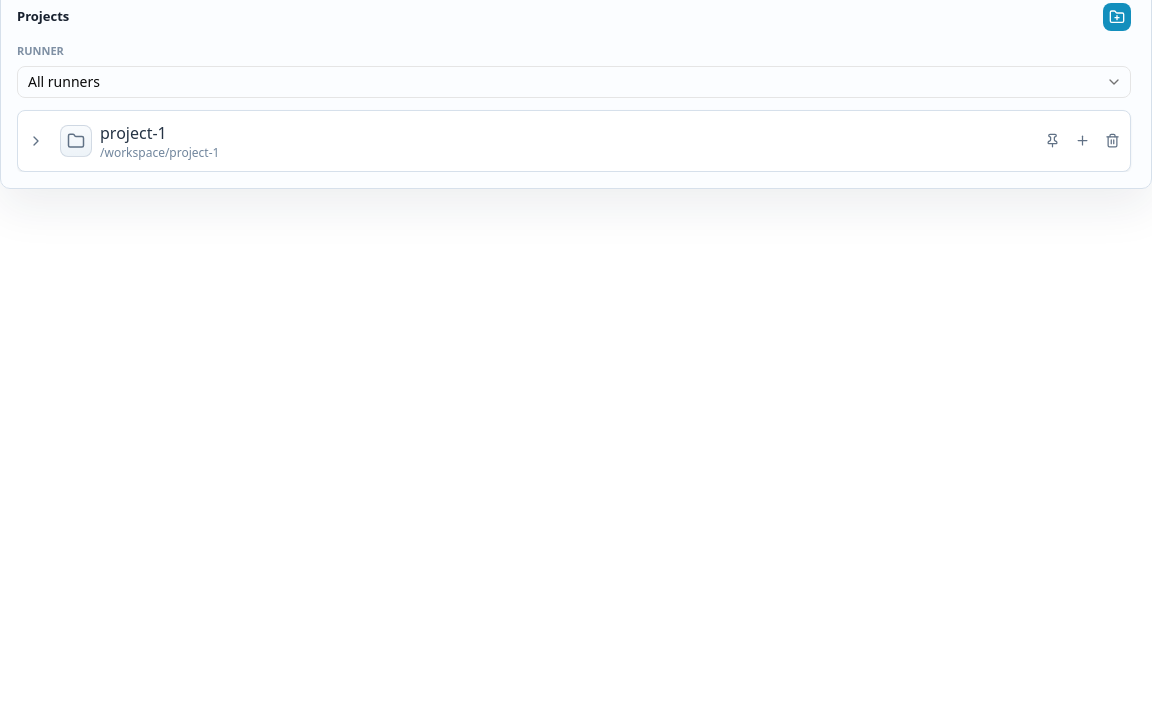
Test: RunnerSidebar › limits project session lists to five until the user expands them
The image size is (1152, 706).
Click the button named "Expand project project-1".
click(36, 140)  # box 22,126 -> 50,154
(page scrolled)
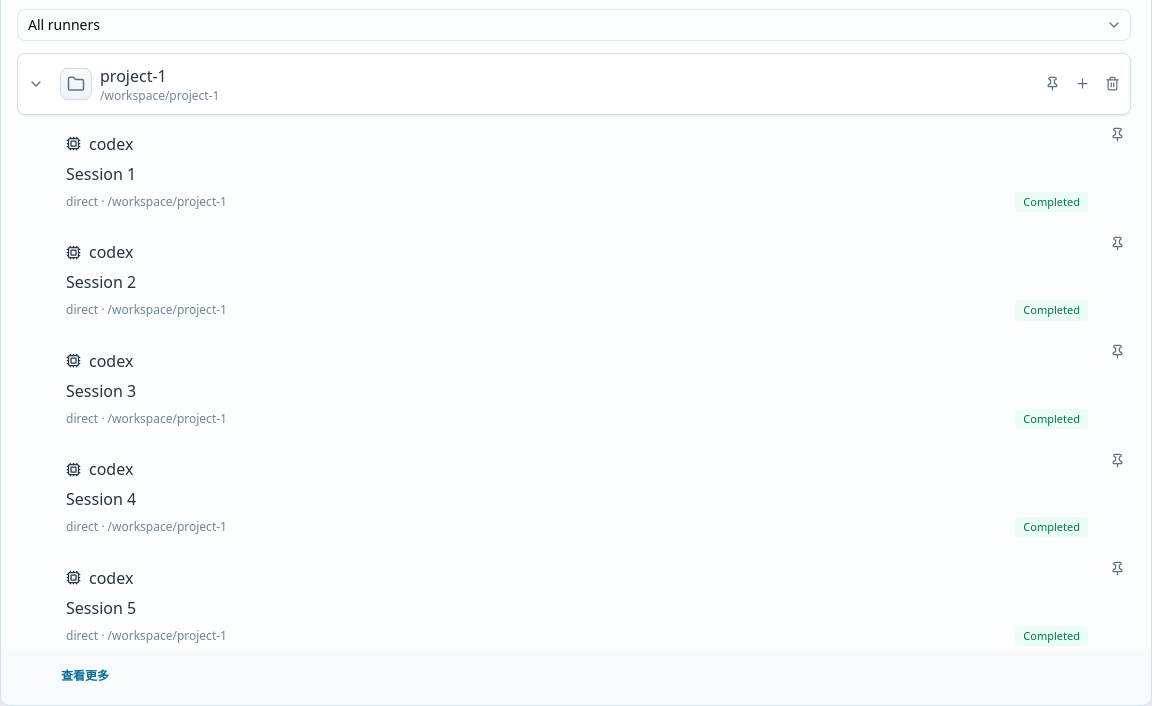
Expected: the text "Session 6" is not shown
Expected: the text "Session 1" is shown, 66,162 -> 136,184
Expected: the text "Session 5" is shown, 66,596 -> 136,618
Click the button "查看更多".
click(85, 676)  # box 55,663 -> 115,689
(page scrolled)
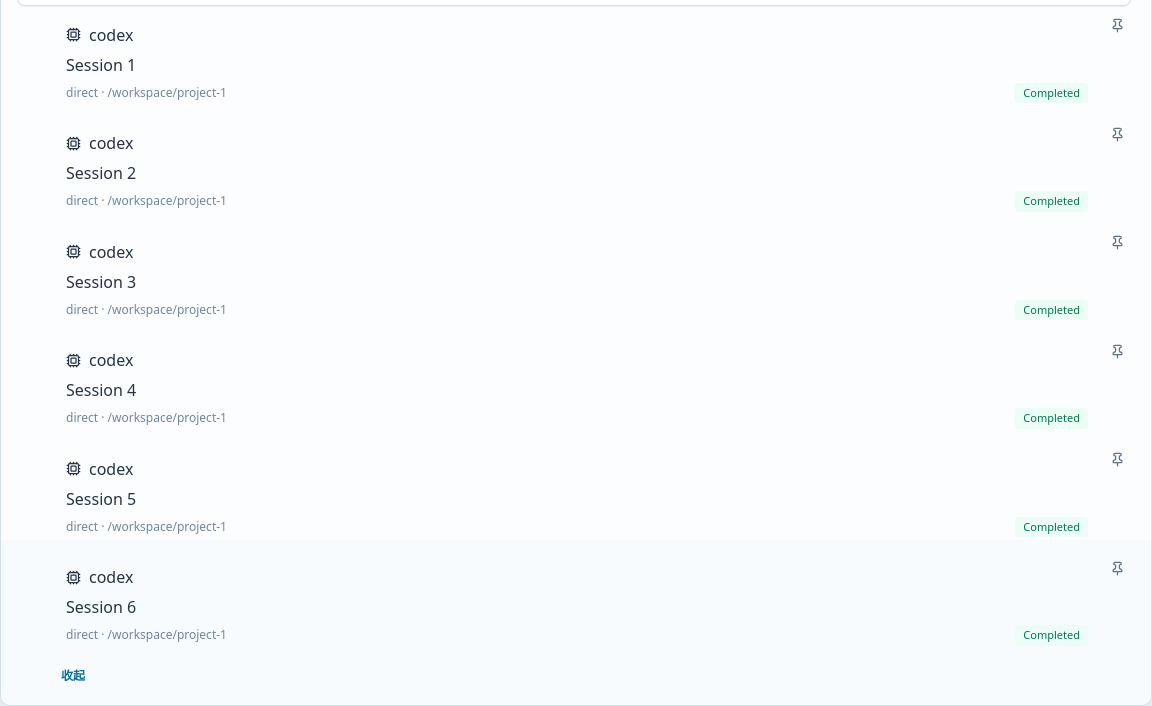
Expected: the text "Session 6" is shown, 66,596 -> 136,618
Click the button "收起".
click(73, 676)  # box 55,662 -> 91,688
(page scrolled)
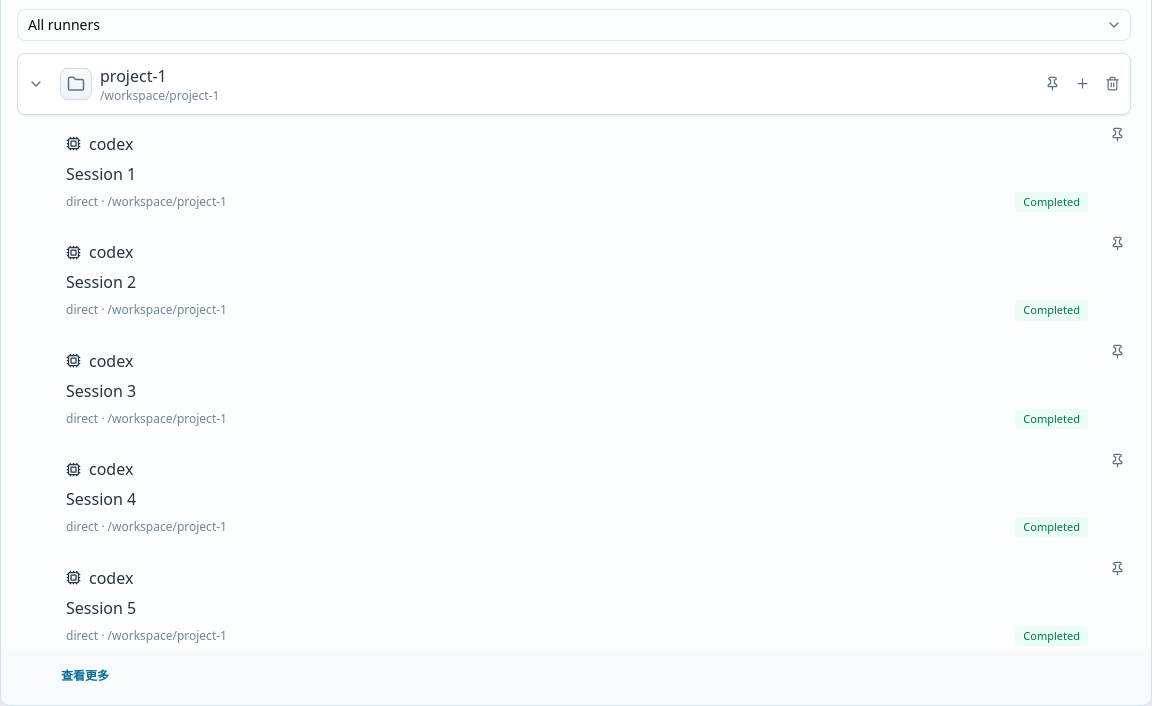
Expected: the button "Session 6" is gone
